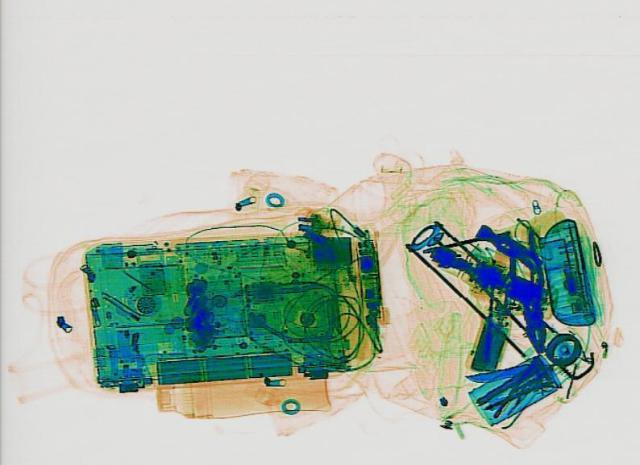Knife: (462, 362, 538, 383)
